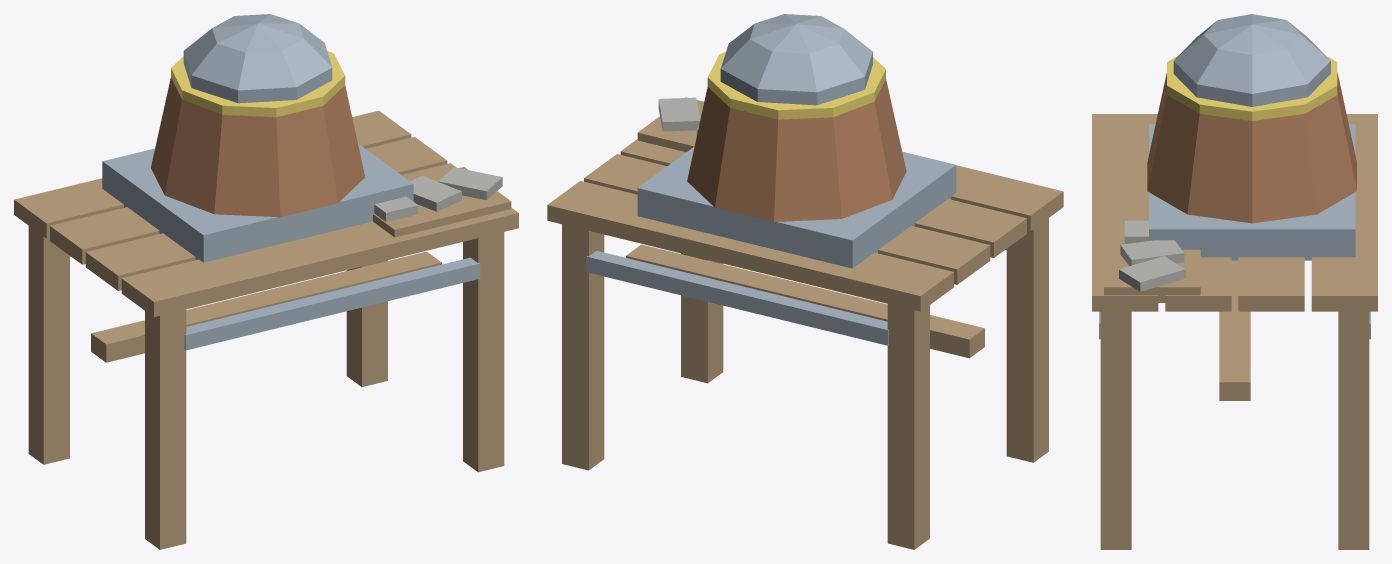
The model's file is wipe-day-survival-island-research-table-5b1115cc__27468.glb.
3 views of the same model, side by side, from view 1: azimuth 30°, elevation 25°; view 2: azimuth 150°, elevation 25°; view 3: azimuth 270°, elevation 25° (orthographic). The views are drawn at different scales.
Visible parts, largest first — view 1: research-table; view 2: research-table; view 3: research-table.
Part boxes in pixels (x1,y1,x2,y2): research-table: (14,14,518,549); research-table: (547,14,1063,549); research-table: (1092,14,1377,549).
Bounding box in the file's own units: 1.28 × 1.41 × 0.83.
